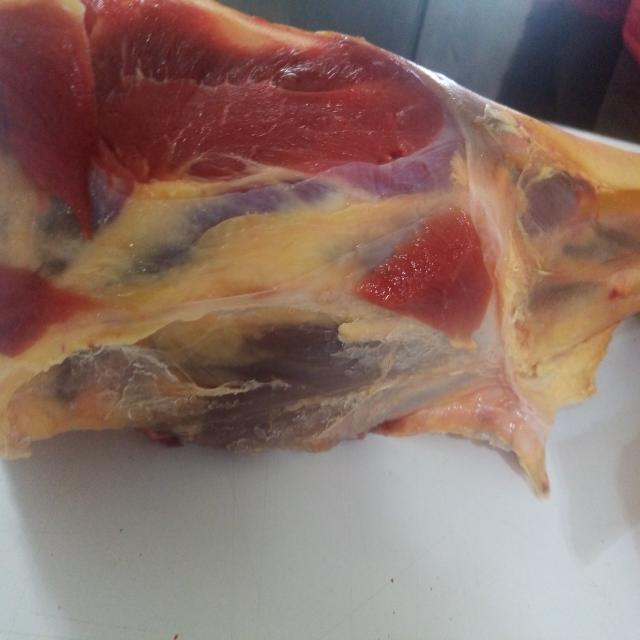beef: (0, 10, 640, 472)
